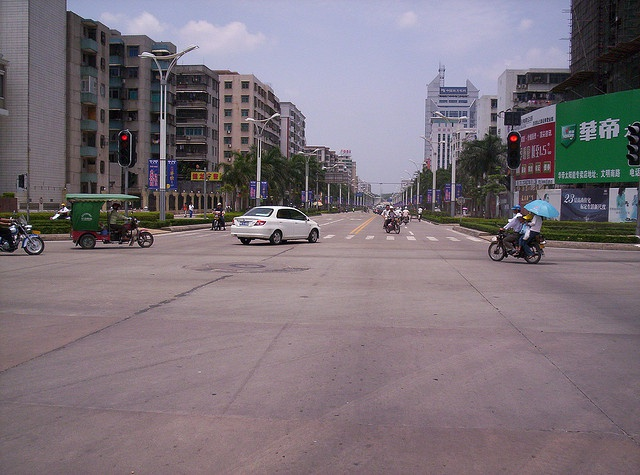non-vehicle: (488, 218, 546, 263), (0, 209, 44, 254), (383, 215, 399, 233), (212, 208, 223, 230), (49, 211, 71, 220), (399, 211, 408, 224)
